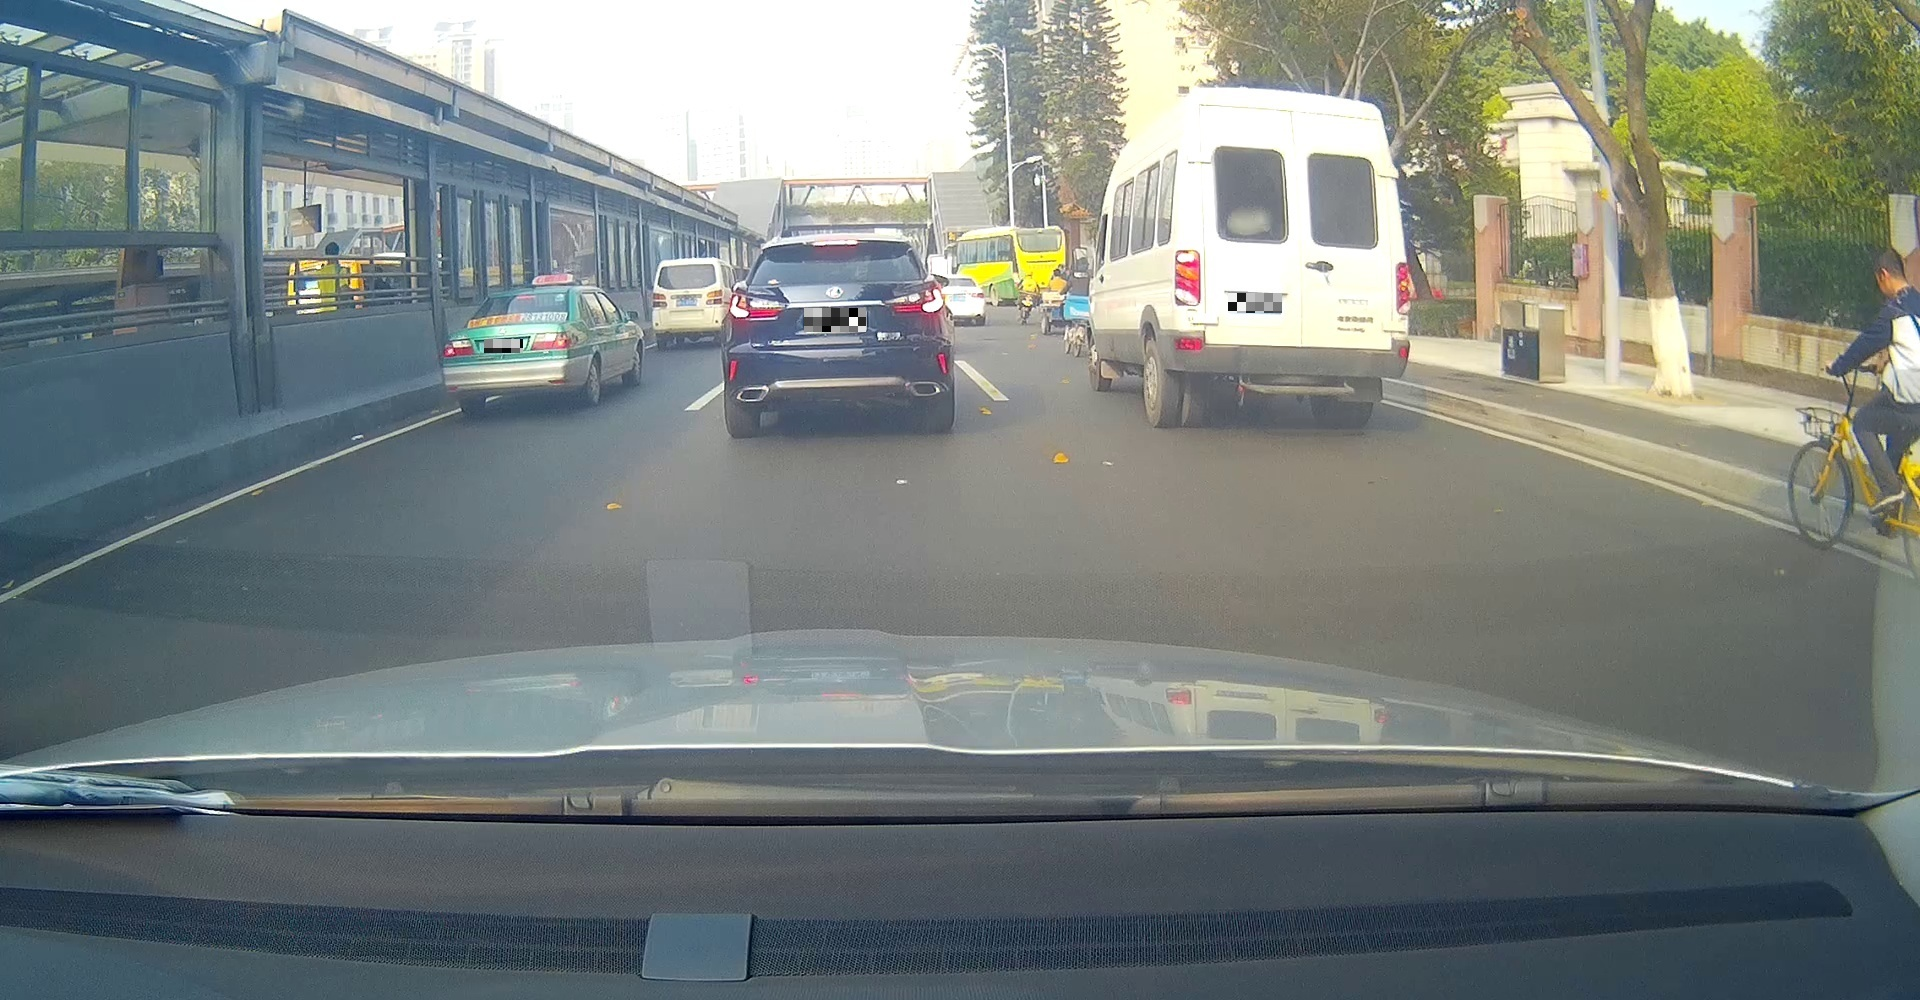L_light: (1175, 249, 1203, 306), (729, 293, 785, 320), (442, 338, 472, 357), (651, 293, 667, 307)
R_light: (884, 284, 946, 313), (530, 331, 577, 352), (1396, 261, 1408, 316), (705, 291, 723, 305)
T_light: (813, 239, 858, 245), (1276, 109, 1307, 115), (513, 294, 536, 299), (681, 265, 695, 269)
day-brake: (725, 235, 955, 439), (439, 284, 580, 414)
day-no: (1170, 85, 1410, 430), (651, 258, 724, 346)
plate_1: (484, 339, 523, 353)
plate_2: (804, 308, 866, 332)
plate_3: (1228, 293, 1283, 313)
